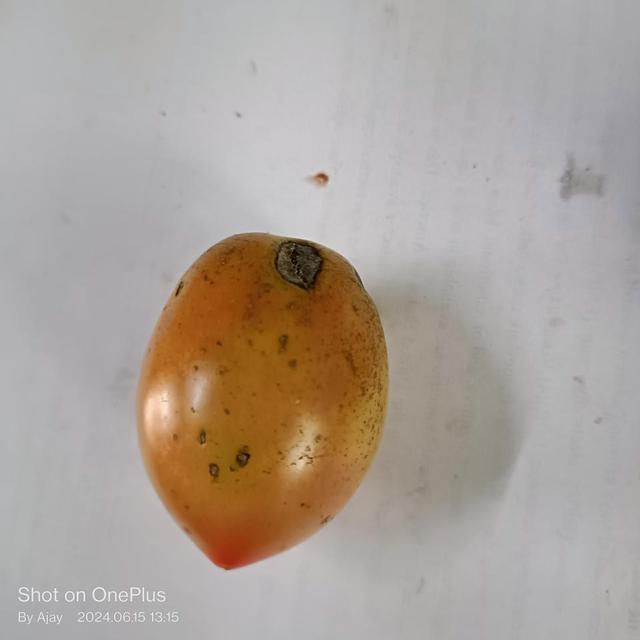Bacterial Spot Fruit: (14, 12, 199, 314)
